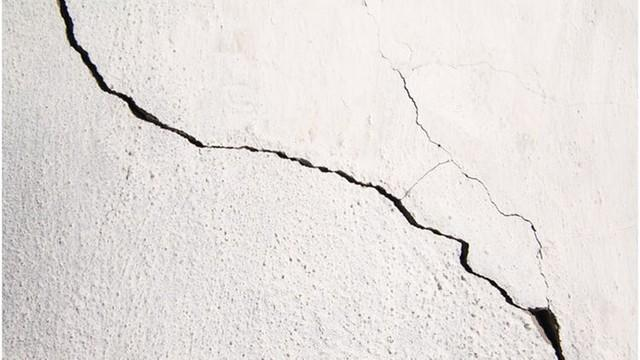Crack: (46, 0, 578, 360)
